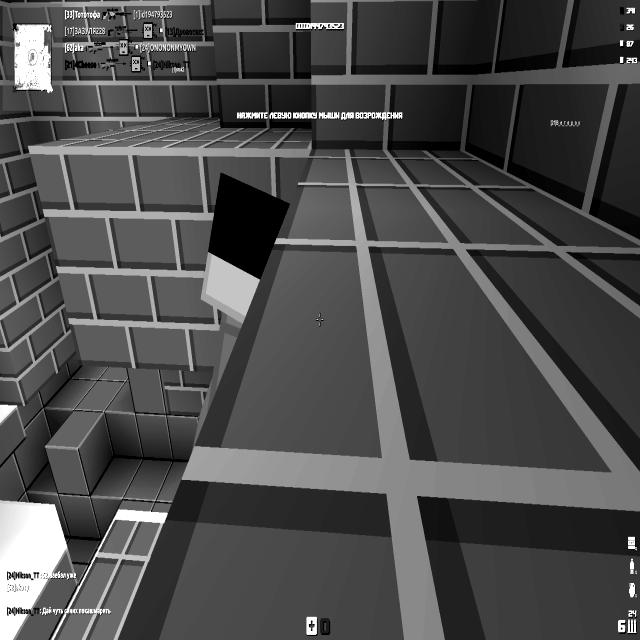Head: (198, 172, 290, 322), (143, 22, 153, 40)
Player: (170, 170, 280, 438)
